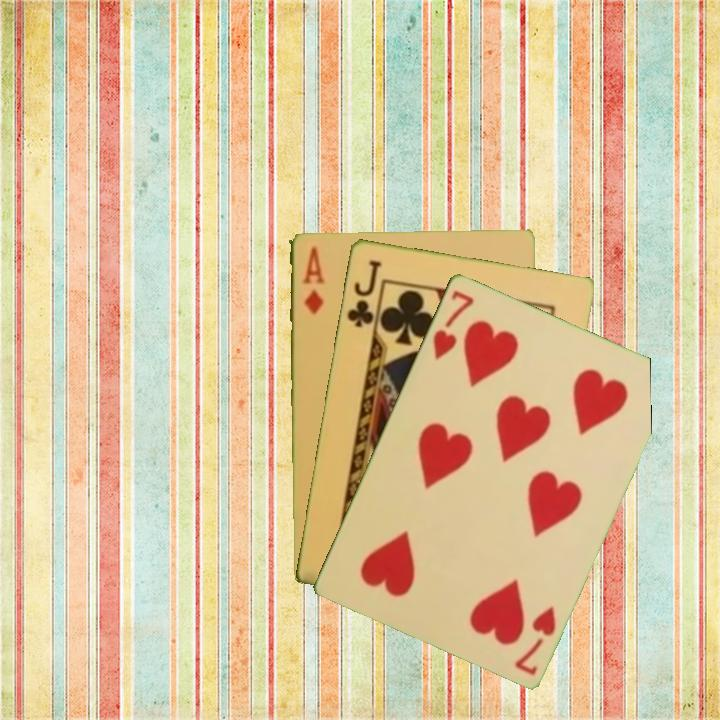7h: (429, 286, 477, 363), (511, 602, 559, 678)
Ad: (298, 242, 326, 317)
Jc: (343, 256, 384, 330)
